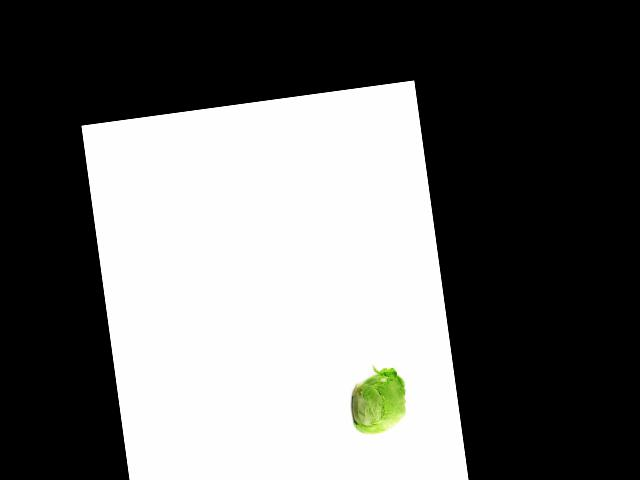lettuce: (344, 368, 413, 439)
